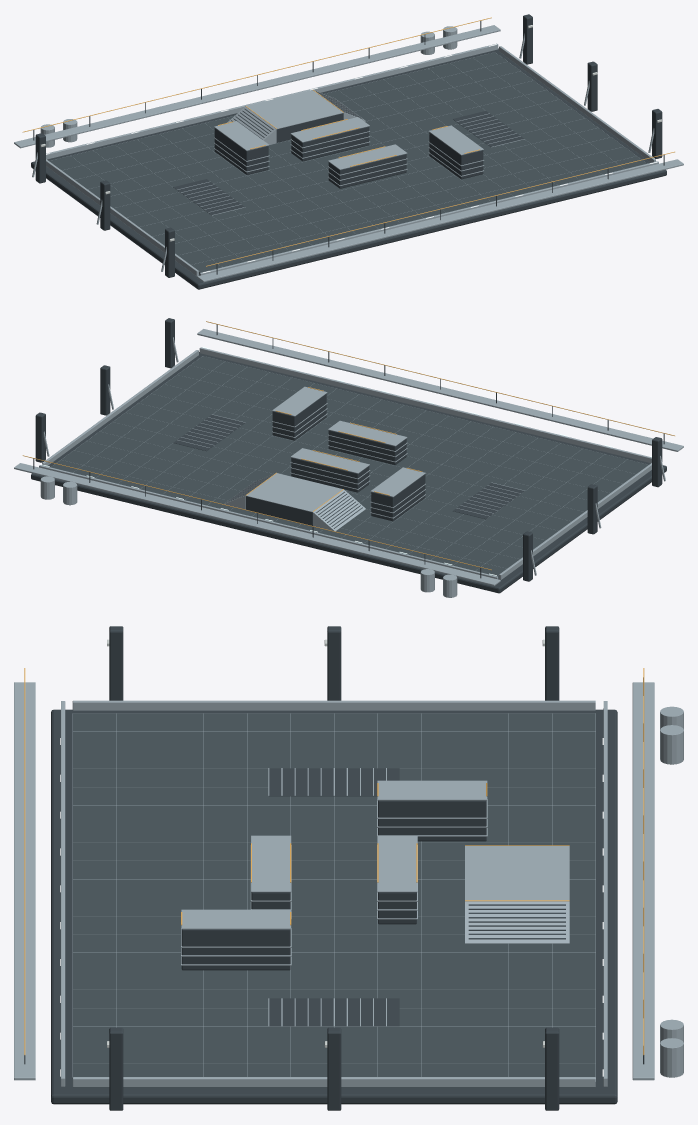
File: map-foundry.glb
3 renders of one model, top to bottom at view 1: azimuth 30°, elevation 25°; view 2: azimuth 150°, elevation 25°; view 3: azimuth 270°, elevation 25°, orthographic. The views are drawn at different scales.
Visible parts, largest first — view 1: CompetitionFloor, Arena_BrushedTitanium, Arena_GraphiteArmor, Arena_WarningAmber; view 2: CompetitionFloor, Arena_BrushedTitanium, Arena_GraphiteArmor, Arena_WarningAmber; view 3: CompetitionFloor, Arena_BrushedTitanium, Arena_GraphiteArmor, Arena_WarningAmber.
Part boxes in pixels (<box>): CompetitionFloor: <box>49,52,646,274</box>; Arena_BrushedTitanium: <box>14,25,683,282</box>; Arena_GraphiteArmor: <box>31,14,666,289</box>; Arena_WarningAmber: <box>22,17,674,266</box>; CompetitionFloor: <box>51,356,648,577</box>; Arena_BrushedTitanium: <box>14,329,683,597</box>; Arena_GraphiteArmor: <box>31,318,666,593</box>; Arena_WarningAmber: <box>22,321,674,570</box>; CompetitionFloor: <box>73,713,595,1076</box>; Arena_BrushedTitanium: <box>14,682,683,1087</box>; Arena_GraphiteArmor: <box>24,626,644,1110</box>; Arena_WarningAmber: <box>24,668,644,1055</box>.
Bounding box in the file's own units: 44.66 × 4.2 × 30.75.
